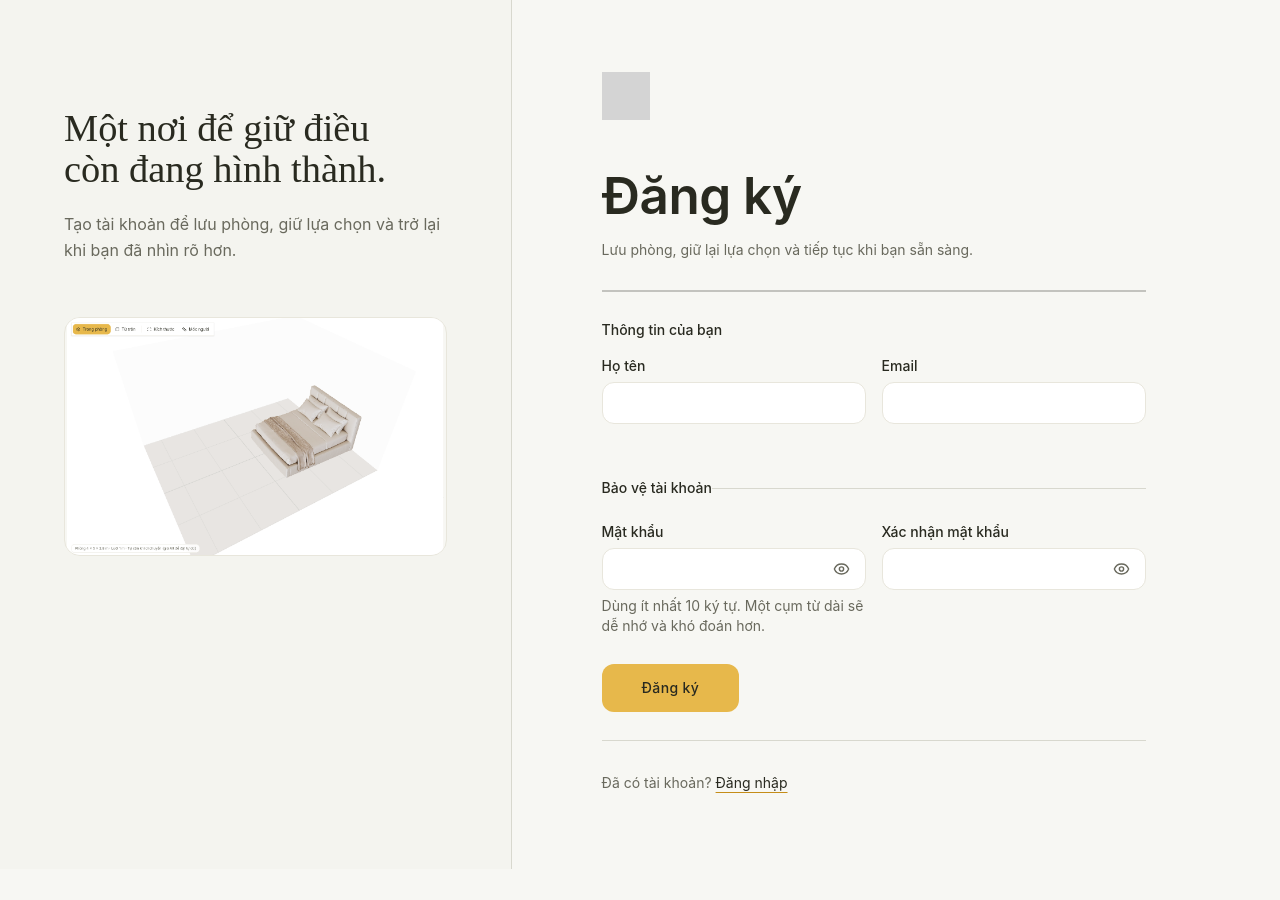
Test: RegisterPage › maps a 422 duplicate-email error to a field error
In the field labelled "Họ tên": (734, 403) [602, 382, 866, 424], type "Bao"
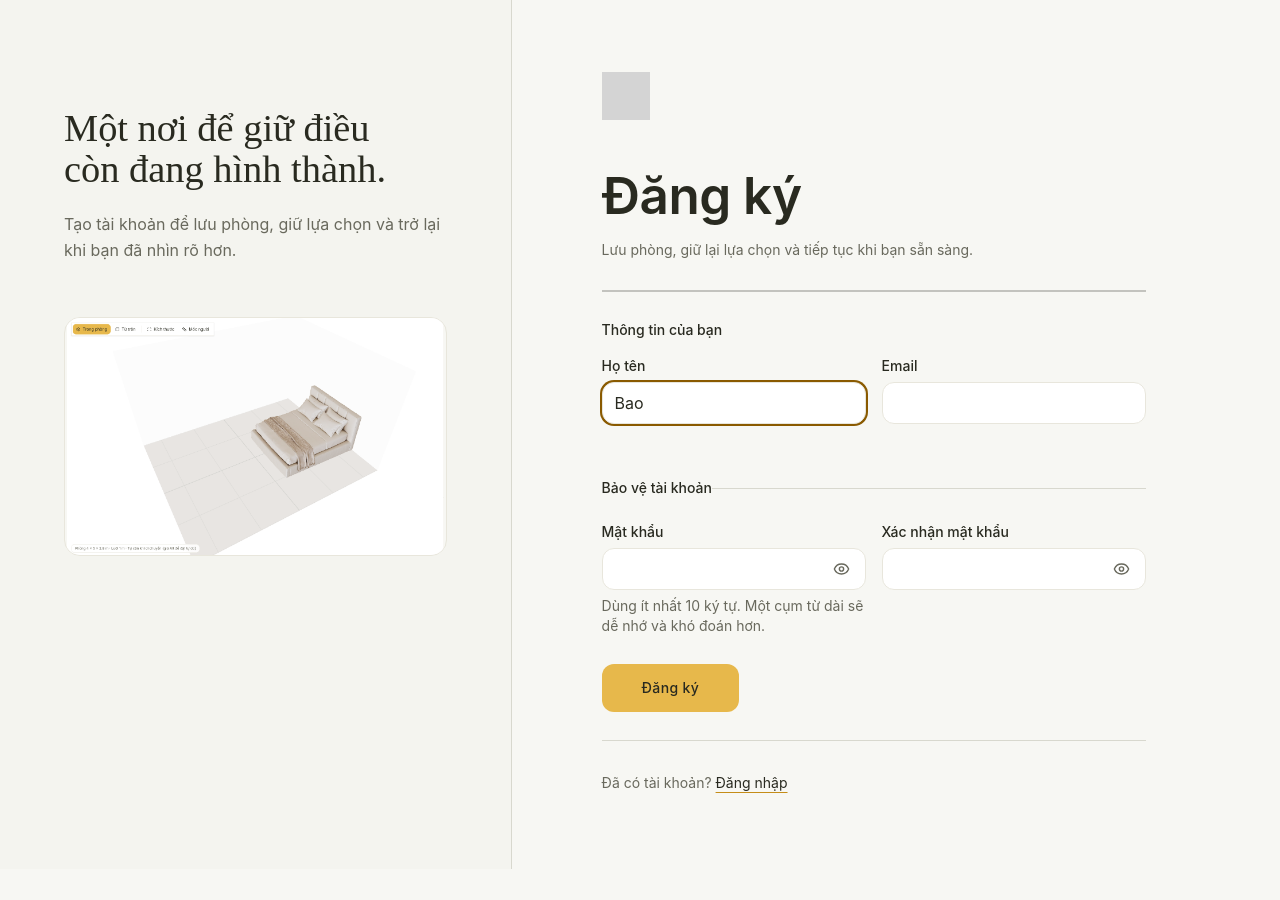
In the field labelled "Email": (1014, 403) [882, 382, 1146, 424], type "bao@example.com"
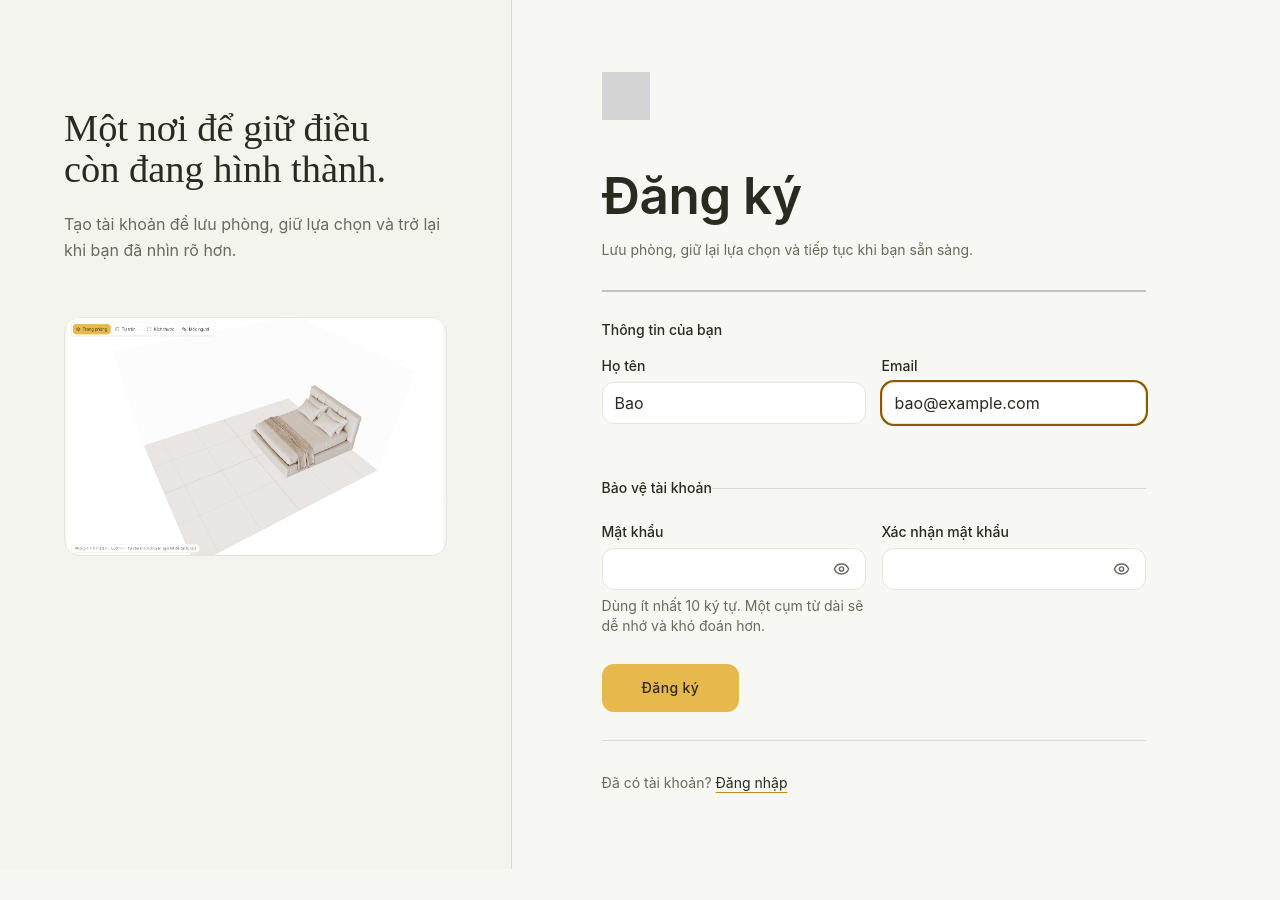
In the password field labelled "Mật khẩu": (734, 569) [602, 548, 866, 590], type "password1234"
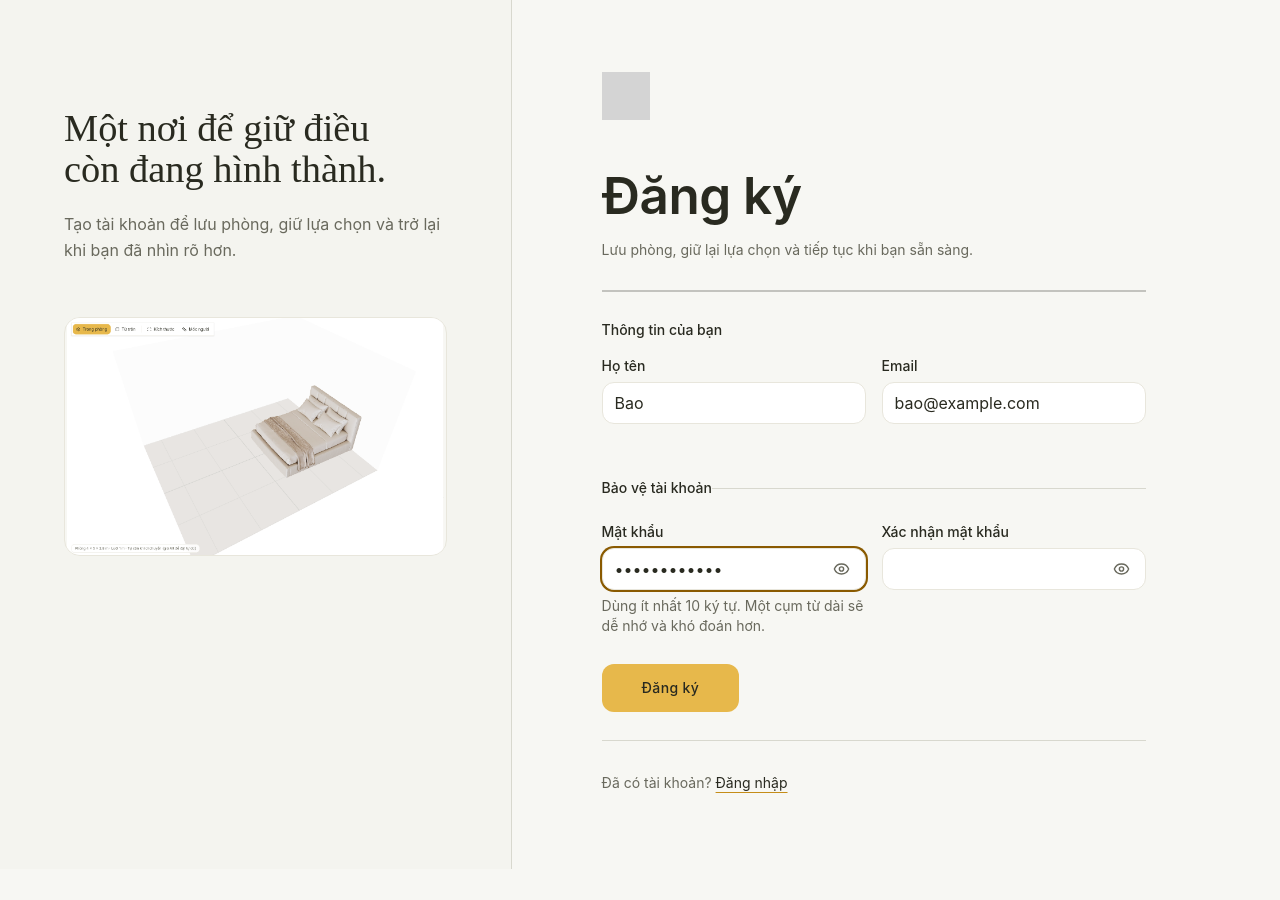
In the password field labelled "Xác nhận mật khẩu": (1014, 569) [882, 548, 1146, 590], type "password1234"
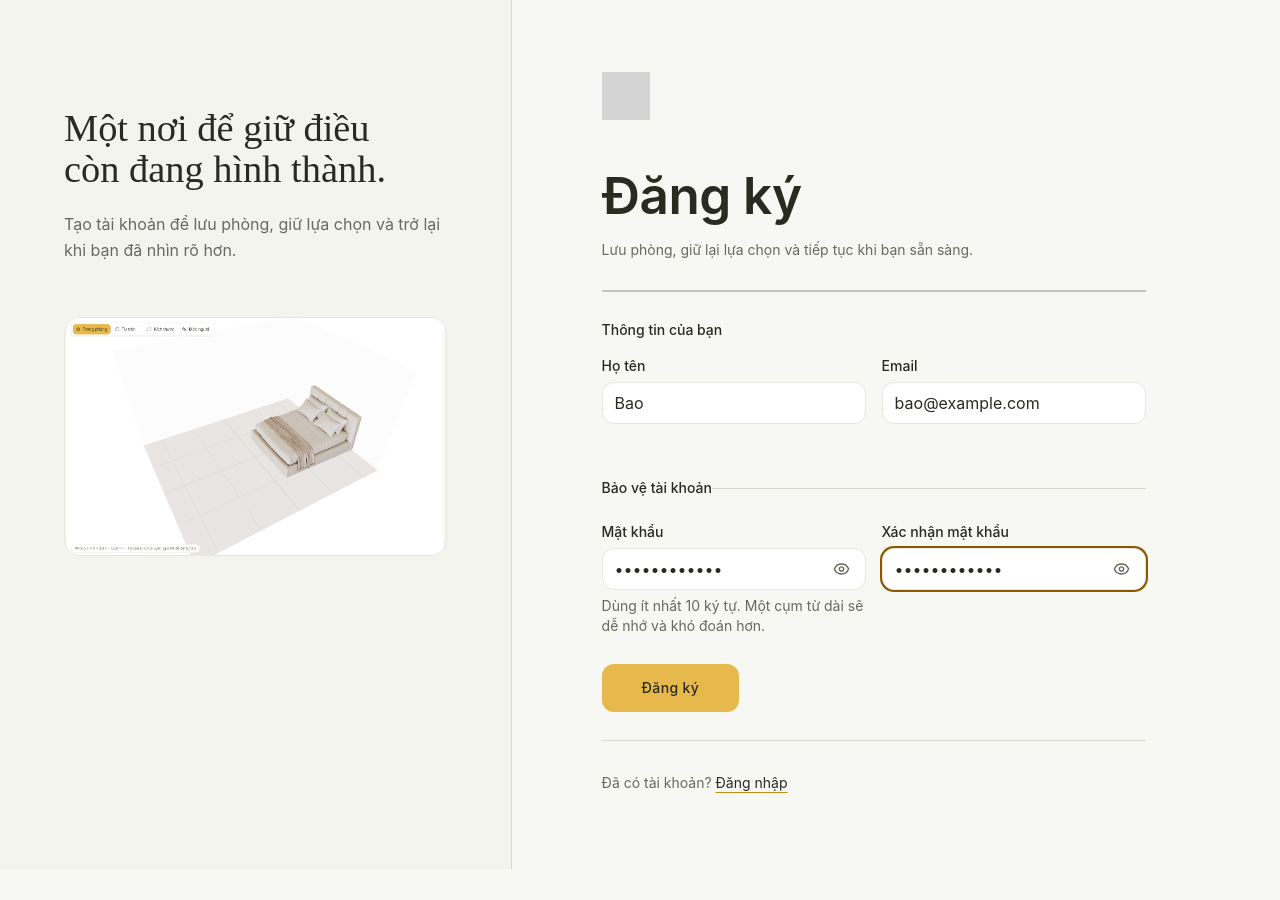
Click the button "Đăng ký": (670, 688) [602, 664, 739, 712]
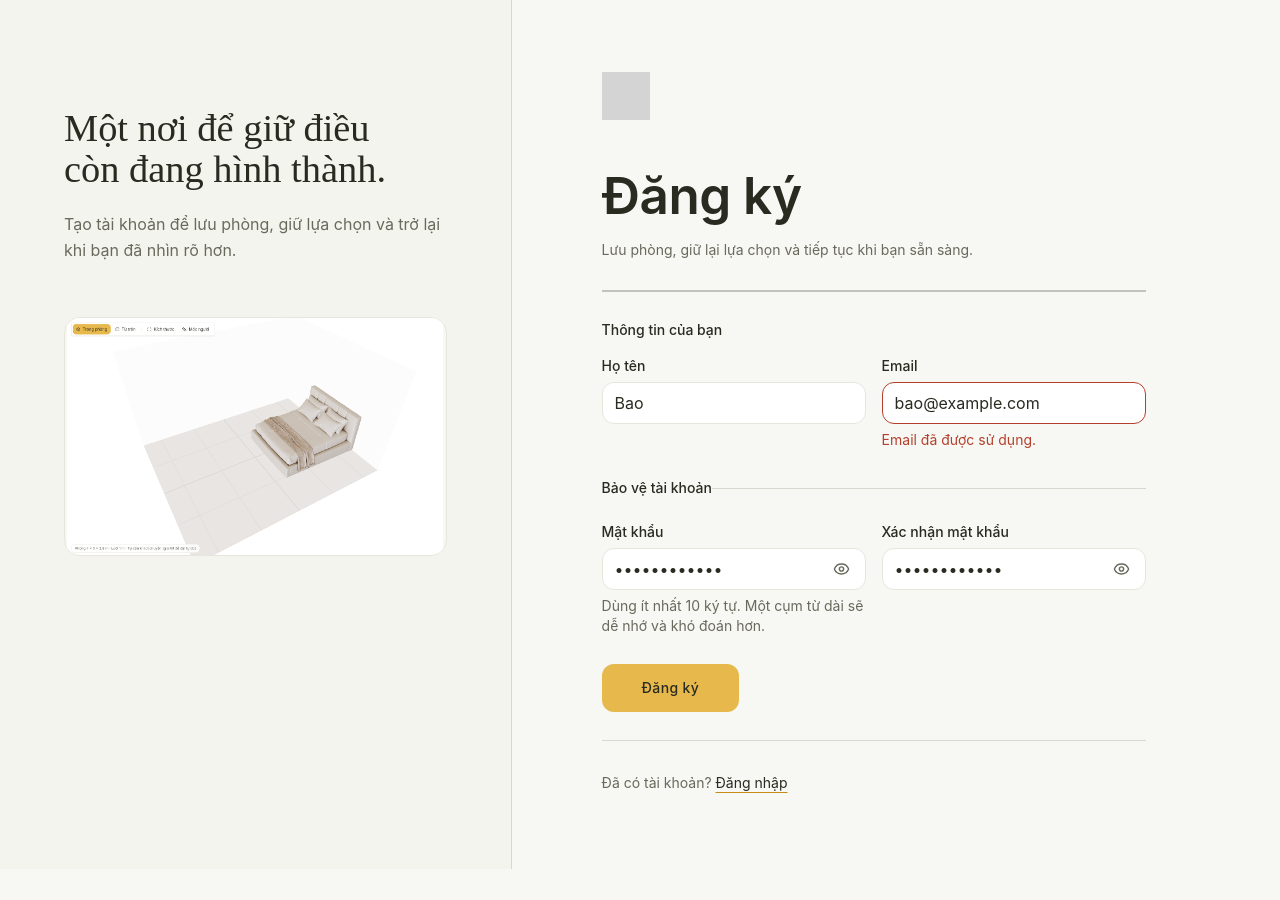
Check: the text "Email đã được sử dụng." is shown, box [882, 431, 1036, 448]
